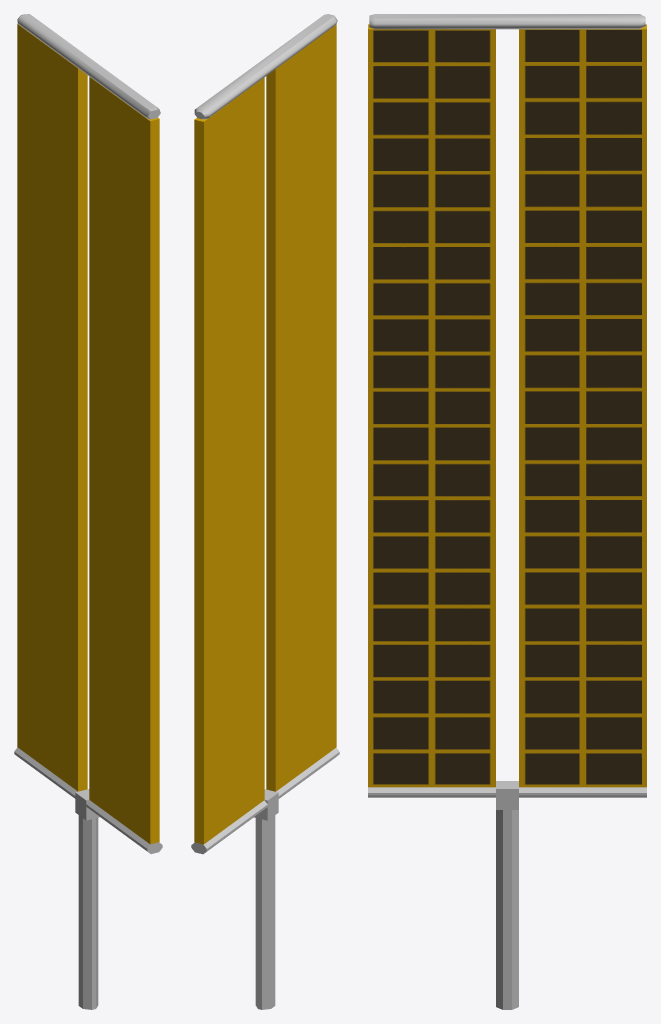
Rendered from SolarPanel.fbx.
The picture shows the model from 3 angles, left to right: view 1: azimuth 30°, elevation 25°; view 2: azimuth 150°, elevation 25°; view 3: azimuth 270°, elevation 25°; orthographic projection. The views are drawn at different scales.
Visible parts, largest first — view 1: solor_panels_low; view 2: solor_panels_low; view 3: solor_panels_low.
Boxes of the visible parts, <box> form: solor_panels_low: <box>14,14,162,1009</box>; solor_panels_low: <box>191,14,339,1009</box>; solor_panels_low: <box>368,14,646,1009</box>.
Bounding box in the file's own units: 1.62 × 94 × 24.
